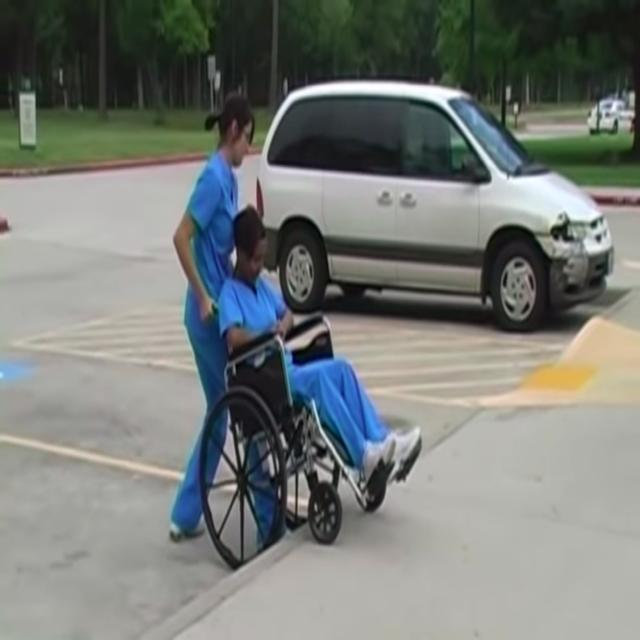wheelchairs: (191, 295, 381, 567)
